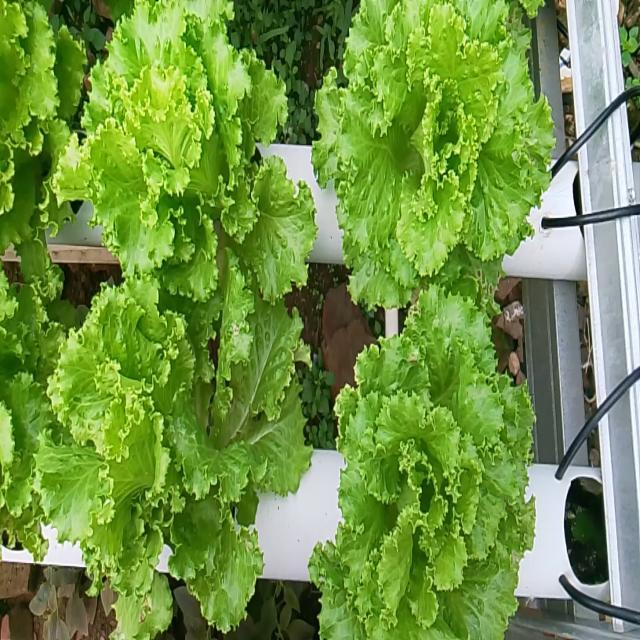Mature: (37, 285, 313, 629), (52, 0, 317, 329), (310, 269, 537, 638), (313, 0, 557, 306)
